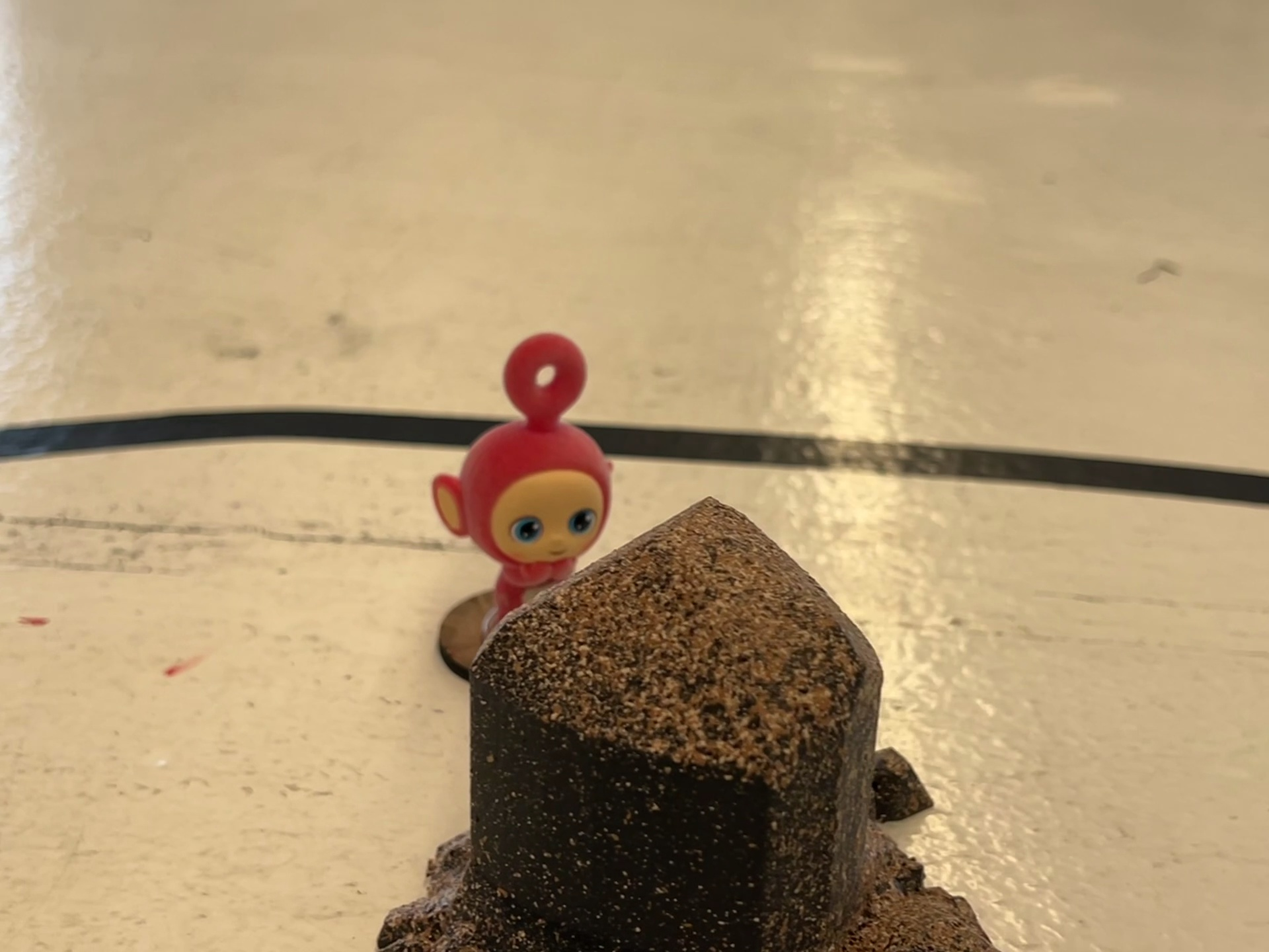teletubby: (433, 333, 612, 631)
